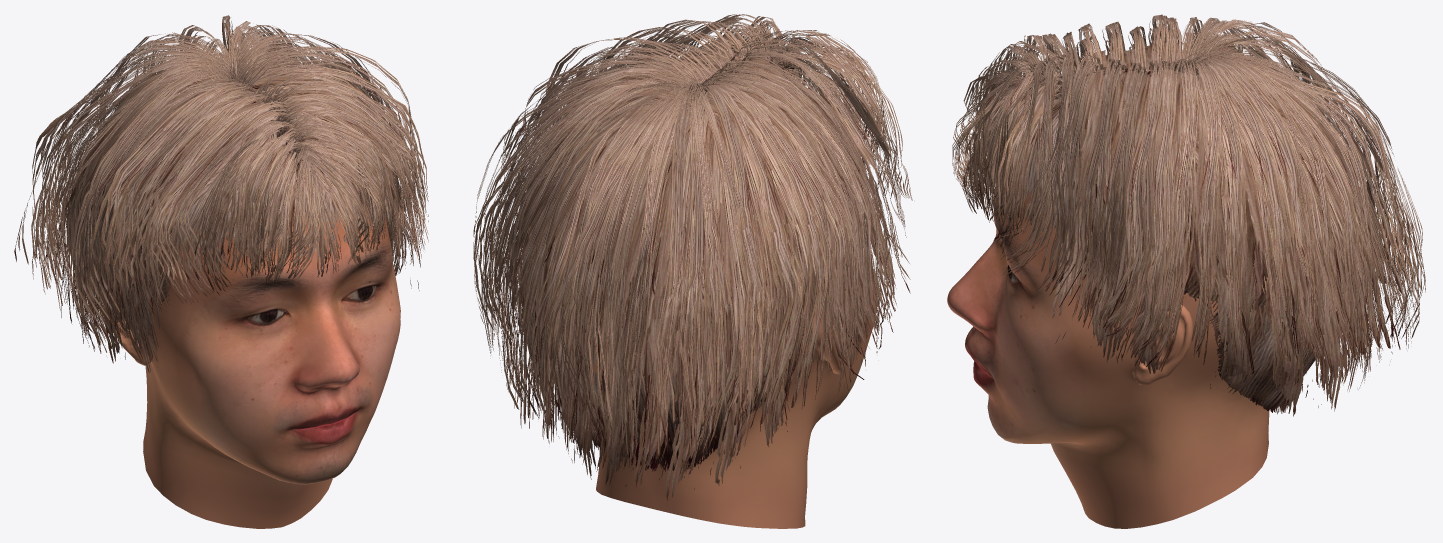
File: Yishen_normal.fbx
3 renders of one model, left to right at view 1: azimuth 30°, elevation 25°; view 2: azimuth 150°, elevation 25°; view 3: azimuth 270°, elevation 25°, orthographic. The views are drawn at different scales.
Visible parts, largest first — view 1: MidLengthRuffled, HeadHires; view 2: MidLengthRuffled, HeadHires; view 3: MidLengthRuffled, HeadHires.
Boxes of the visible parts, box(x1,y1,x2,y2) form: MidLengthRuffled: box(14, 15, 428, 372); HeadHires: box(112, 202, 400, 528); MidLengthRuffled: box(473, 14, 912, 500); HeadHires: box(590, 224, 877, 528); MidLengthRuffled: box(952, 14, 1425, 416); HeadHires: box(947, 189, 1269, 528).
Size of the model in its own units: 246 by 314 by 292.
